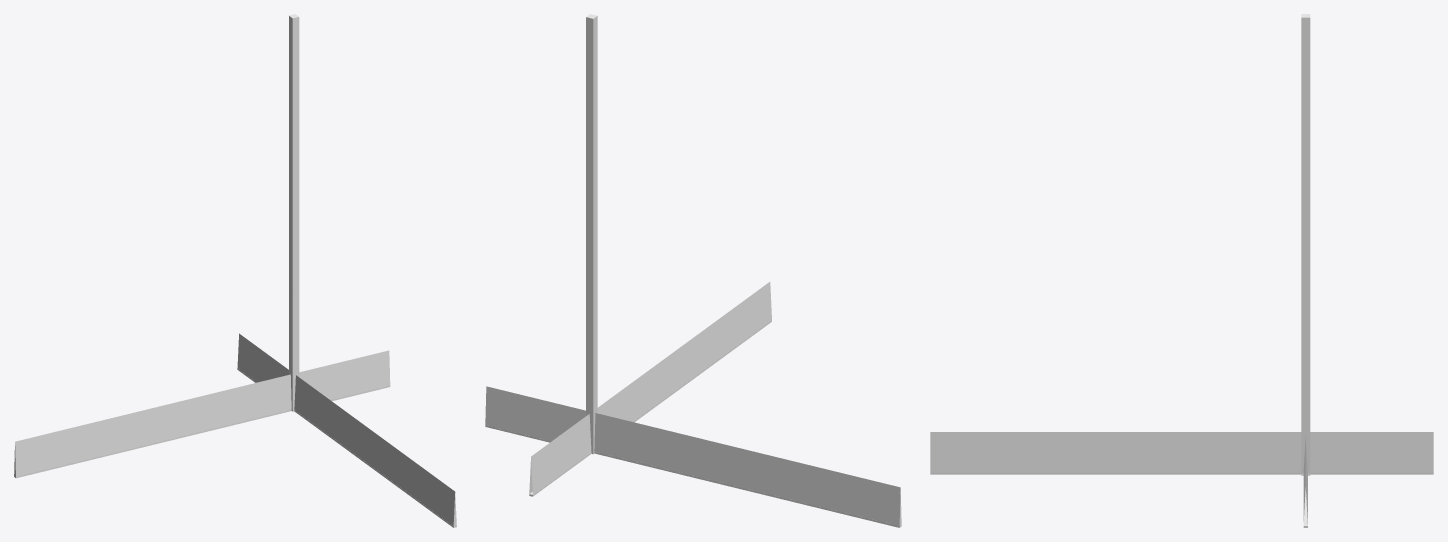
Rendered from path_RL.fbx.
3 views of the same model, side by side, from view 1: azimuth 30°, elevation 25°; view 2: azimuth 150°, elevation 25°; view 3: azimuth 270°, elevation 25° (orthographic). The views are drawn at different scales.
Parts seen in each view (by area): view 1: left002, backwards002, up002, right002, forward002; view 2: left002, backwards002, up002, right002, forward002; view 3: backwards002, forward002, up002.
Boxes of the visible parts, left/top/right/bottom form: left002: left=14, top=374, right=291, bottom=478; backwards002: left=294, top=375, right=456, bottom=527; up002: left=289, top=14, right=299, bottom=409; right002: left=299, top=350, right=390, bottom=400; forward002: left=237, top=333, right=288, bottom=382; left002: left=594, top=413, right=901, bottom=527; backwards002: left=597, top=282, right=771, bottom=422; up002: left=586, top=14, right=597, bottom=452; right002: left=485, top=386, right=585, bottom=442; forward002: left=529, top=414, right=591, bottom=496; backwards002: left=930, top=432, right=1301, bottom=474; forward002: left=1310, top=432, right=1433, bottom=474; up002: left=1301, top=14, right=1310, bottom=473.
Bounding box in the file's own units: 20 × 20.08 × 20.
1 material, 1 textured.
